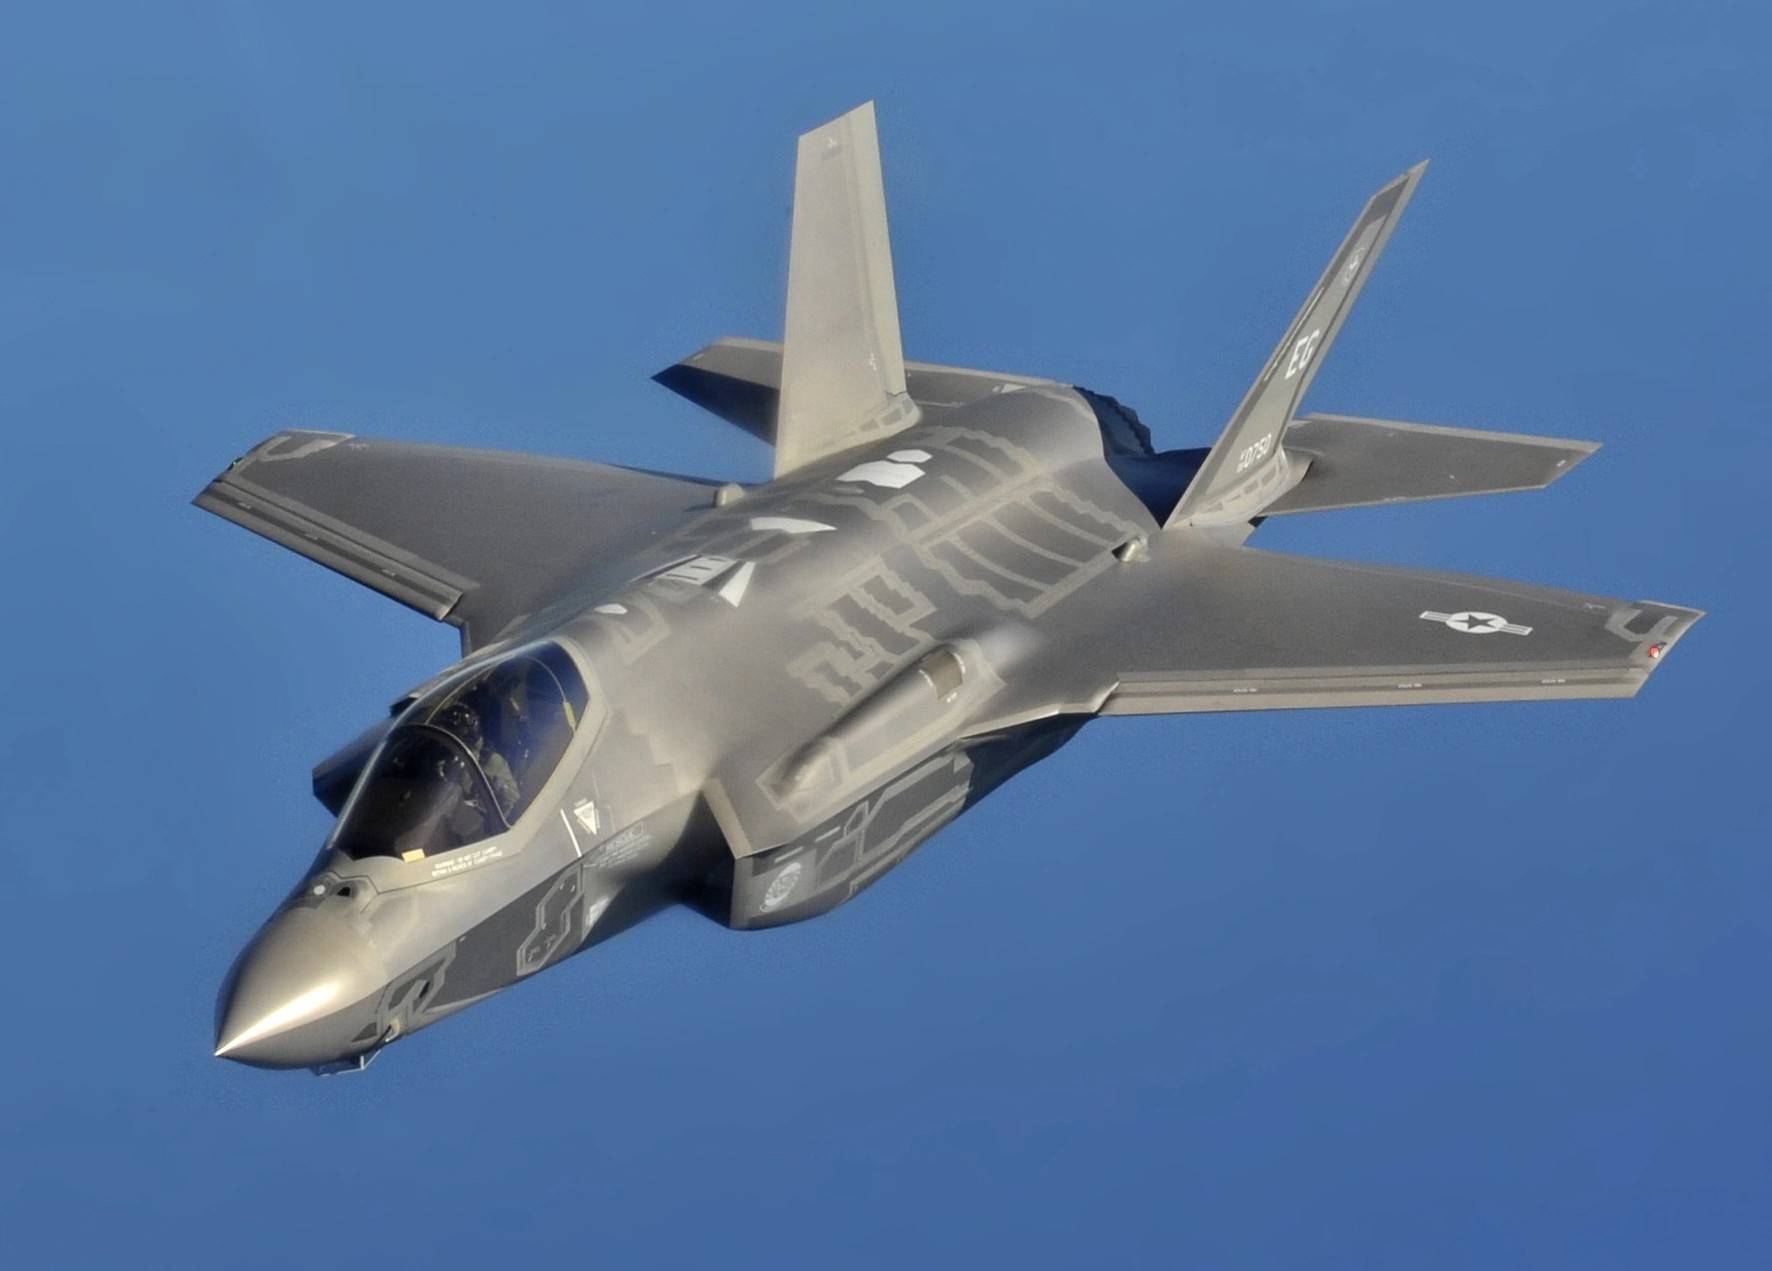F-35 Lightning: (162, 73, 1714, 1172)
